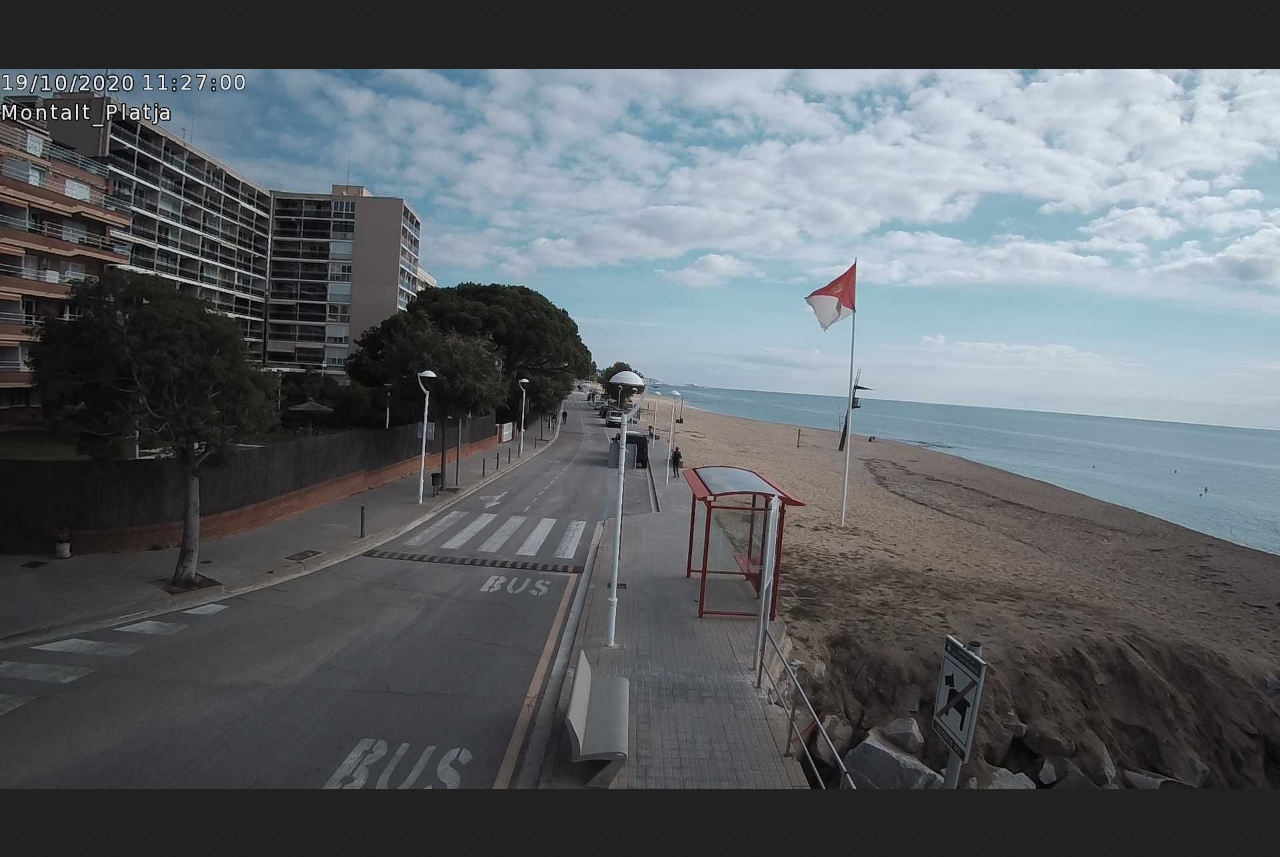maybe: (804, 267, 858, 331)
